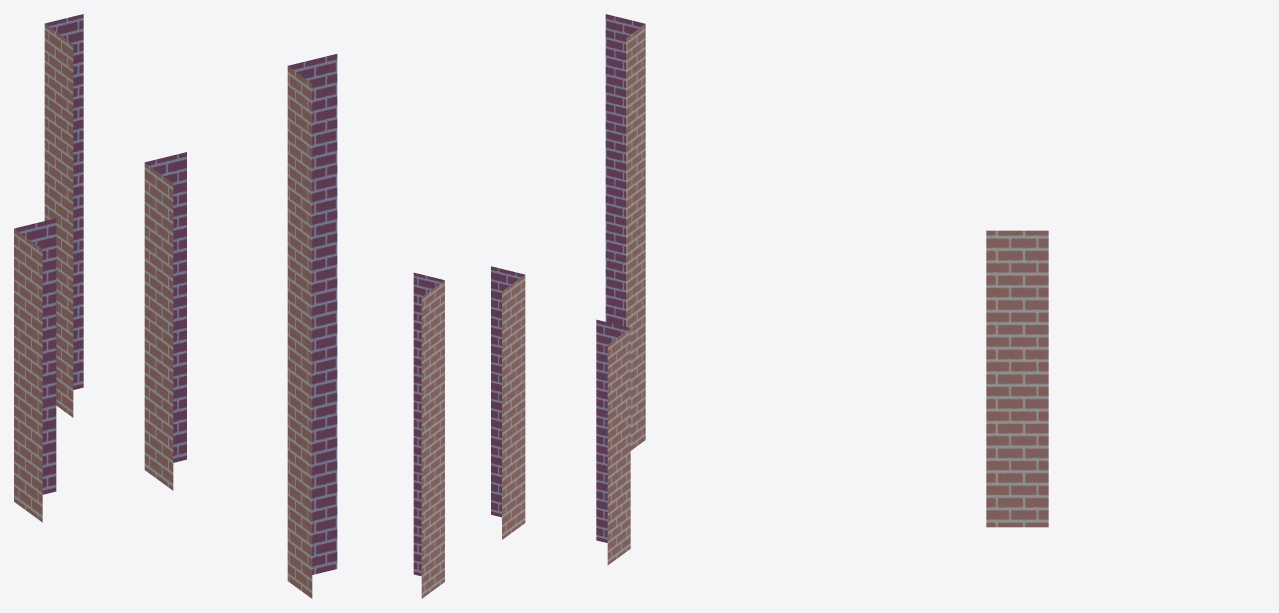
The picture shows the model from 3 angles, left to right: view 1: azimuth 30°, elevation 25°; view 2: azimuth 150°, elevation 25°; view 3: azimuth 270°, elevation 25°; orthographic projection. The views are drawn at different scales.
Visible parts, largest first — view 1: Object04; view 2: Object04; view 3: Object04.
Part boxes in pixels (x1,y1,x2,y2): Object04: (14, 14, 337, 598); Object04: (413, 14, 645, 598); Object04: (986, 230, 1048, 527).
Bounding box in the file's own units: 1037 × 2916 × 2792.
Materials: 3 (3 with a texture image).
